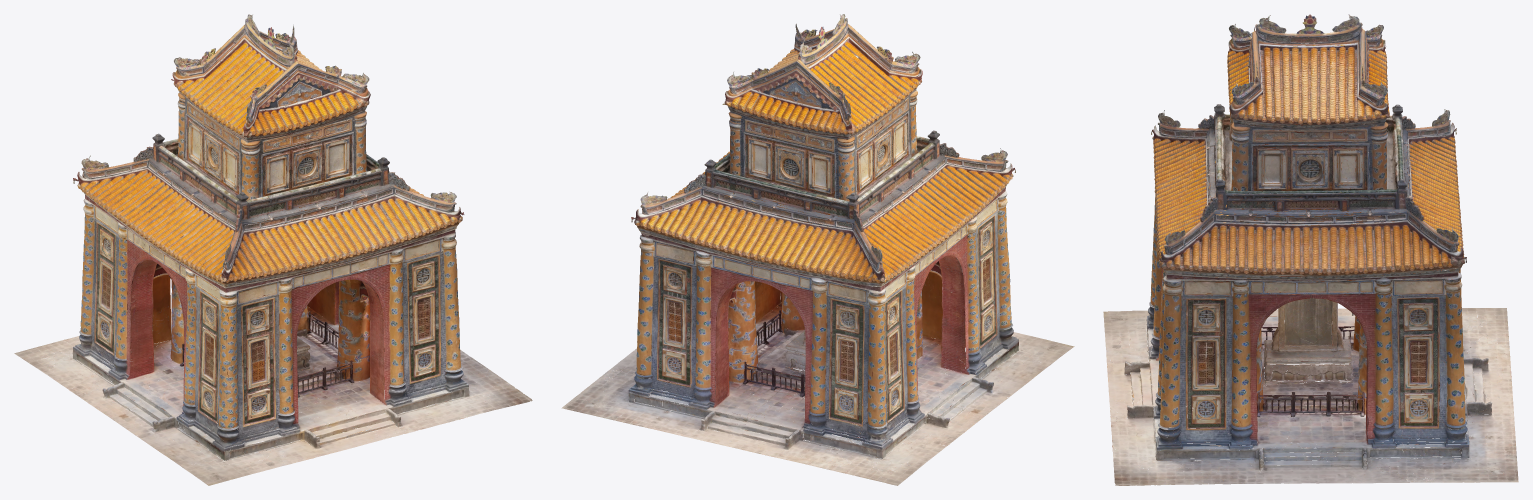
The model's file is sf-tomb-of-tu-duc-77728a.glb.
3 renders of one model, left to right at view 1: azimuth 30°, elevation 25°; view 2: azimuth 150°, elevation 25°; view 3: azimuth 270°, elevation 25°, orthographic. The views are drawn at different scales.
Visible parts, largest first — view 1: Model_material2_0, Model_material3_0, Model_material1_0, Model_material0_0; view 2: Model_material1_0, Model_material3_0, Model_material2_0, Model_material0_0; view 3: Model_material3_0, Model_material1_0, Model_material0_0, Model_material2_0.
Part boxes in pixels (bbox=[...]): Model_material2_0: bbox=[29, 18, 493, 469]; Model_material3_0: bbox=[14, 14, 532, 485]; Model_material1_0: bbox=[28, 27, 470, 460]; Model_material0_0: bbox=[47, 14, 509, 468]; Model_material1_0: bbox=[561, 14, 1017, 481]; Model_material3_0: bbox=[580, 14, 1074, 485]; Model_material2_0: bbox=[582, 14, 1052, 479]; Model_material0_0: bbox=[592, 19, 1036, 468]; Model_material3_0: bbox=[1103, 16, 1517, 485]; Model_material1_0: bbox=[1107, 14, 1518, 483]; Model_material0_0: bbox=[1117, 15, 1511, 484]; Model_material2_0: bbox=[1106, 14, 1517, 484].
Size of the model in its own units: 9.31 by 9.27 by 9.08.
Materials: 4 (4 with a texture image).
